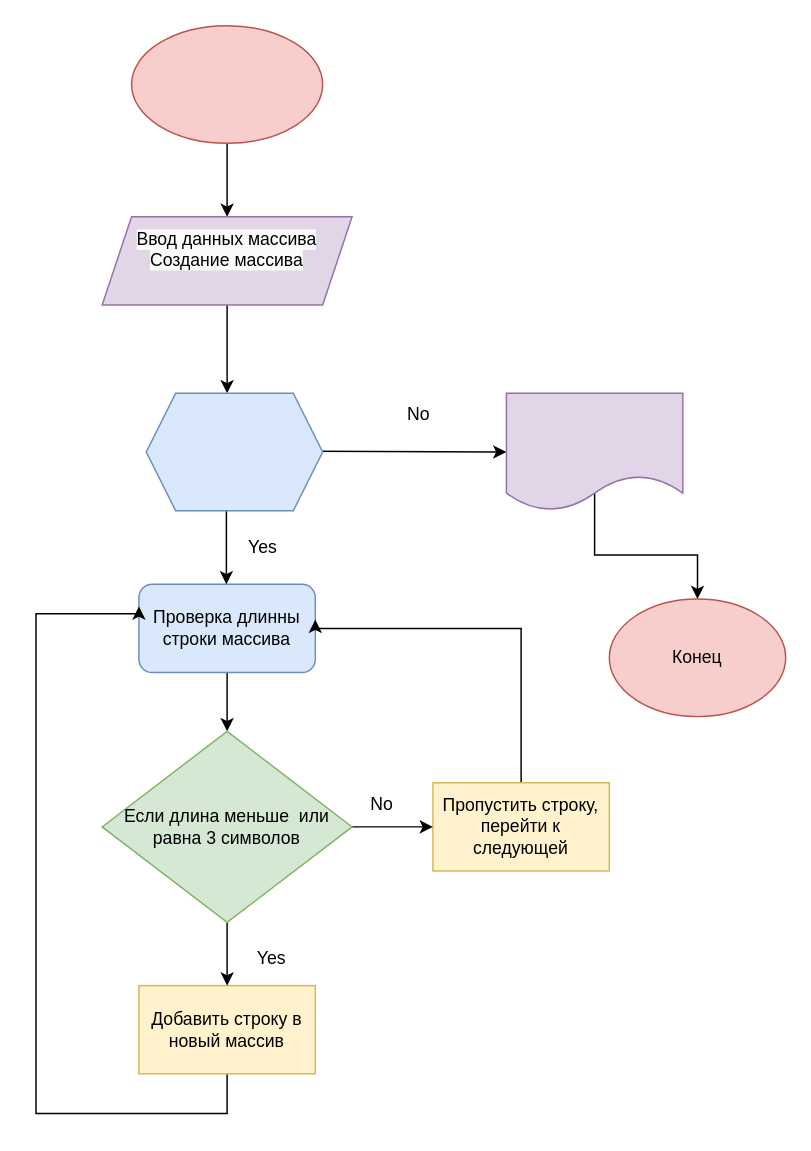
Image size: 811x1151. Some labels were removed from this diagram. Each missing label, with the centre of its shape:
for i = 0; i < Array.length; i++: point 234,451
Вывод нового массива: point 594,451
Старт: point 226,83
